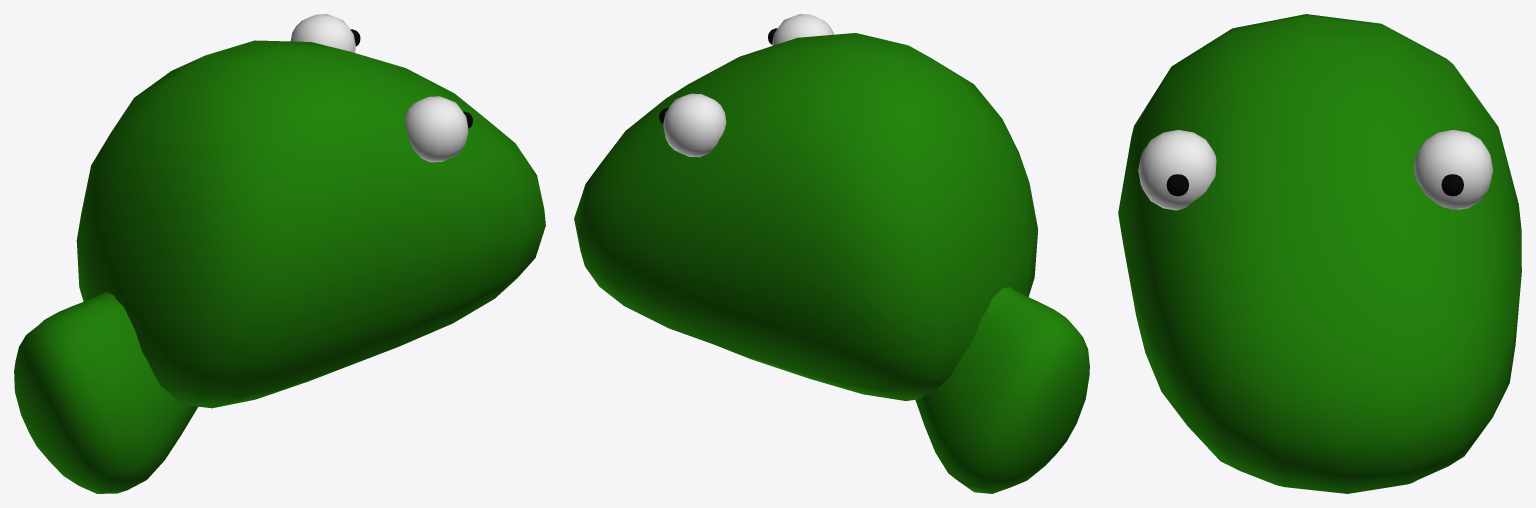
Rendered from headrex.fbx.
3 renders of one model, left to right at view 1: azimuth 30°, elevation 25°; view 2: azimuth 150°, elevation 25°; view 3: azimuth 270°, elevation 25°, orthographic. The views are drawn at different scales.
Visible parts, largest first — view 1: Head, eye2, eye1; view 2: Head, eye1, eye2; view 3: Head, eye1, eye2.
Boxes of the visible parts, <box> form: Head: <box>14,40,545,493</box>; eye2: <box>404,96,472,162</box>; eye1: <box>290,14,360,52</box>; Head: <box>574,33,1089,493</box>; eye1: <box>659,93,726,157</box>; eye2: <box>768,14,833,45</box>; Head: <box>1118,14,1521,493</box>; eye1: <box>1414,130,1493,209</box>; eye2: <box>1138,130,1216,210</box>.
Bounding box in the file's own units: 364 × 280 × 210.
